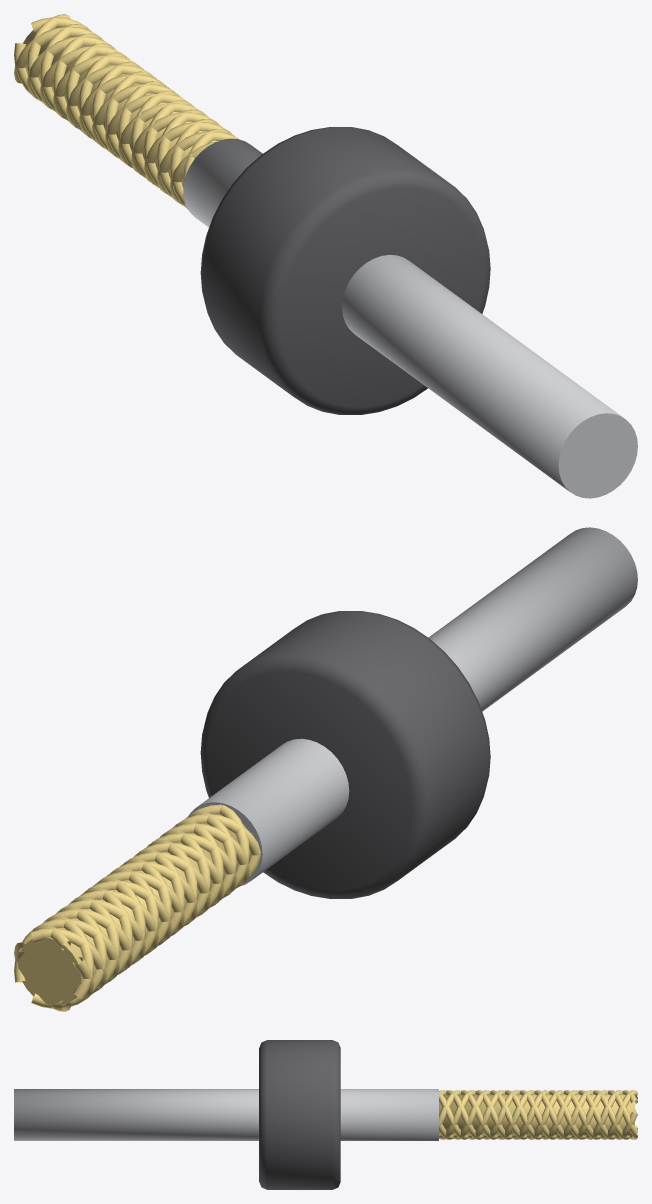
The model's file is corn18_3.glb.
3 renders of one model, top to bottom at view 1: azimuth 30°, elevation 25°; view 2: azimuth 150°, elevation 25°; view 3: azimuth 270°, elevation 25°, orthographic. The views are drawn at different scales.
Visible parts, largest first — view 1: Cylinder.002, Cylinder.001, flute.002, flute.005, flute.007, flute, flute.004, flute.003, flute.006, flute.001, Cylinder; view 2: Cylinder.002, Cylinder.001, Cylinder, flute.005, flute.002, flute.004, flute.003, flute.007, flute, flute.006, flute.001; view 3: Cylinder.001, Cylinder.002, Cylinder, flute.003, flute, flute.006, flute.001, flute.005, flute.004, flute.002, flute.007.
Part boxes in pixels (box(x1,y1,x2,y2)): Cylinder.002: box(200, 127, 490, 414); Cylinder.001: box(183, 138, 637, 498); flute.002: box(14, 26, 215, 201); flute.005: box(27, 14, 231, 187); flute.007: box(14, 43, 217, 209); flute: box(31, 17, 239, 192); flute.004: box(27, 36, 221, 210); flute.003: box(40, 24, 237, 197); flute.006: box(40, 46, 234, 184); flute.001: box(53, 33, 204, 206); Cylinder: box(23, 26, 218, 187); Cylinder.002: box(200, 611, 490, 898); Cylinder.001: box(189, 527, 637, 885); Cylinder: box(18, 813, 251, 1005); flute.005: box(31, 814, 260, 990); flute.002: box(45, 805, 249, 998); flute.004: box(31, 830, 260, 1008); flute.003: box(14, 804, 223, 982); flute.007: box(56, 823, 249, 998); flute: box(33, 811, 236, 984); flute.006: box(14, 820, 223, 993); flute.001: box(43, 832, 236, 1011); Cylinder.001: box(14, 1089, 438, 1140); Cylinder.002: box(259, 1040, 340, 1189); Cylinder: box(439, 1094, 634, 1135); flute.003: box(439, 1090, 637, 1139); flute: box(439, 1090, 637, 1139); flute.006: box(439, 1090, 637, 1139); flute.001: box(439, 1090, 637, 1139); flute.005: box(446, 1090, 637, 1139); flute.004: box(453, 1090, 637, 1139); flute.002: box(439, 1090, 637, 1139); flute.007: box(461, 1090, 637, 1139).
Size of the model in its own units: 0.00917 by 0.00917 by 0.0382.
